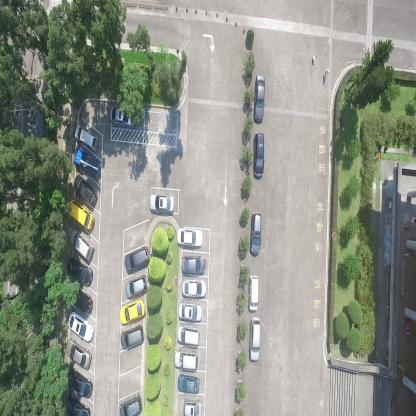car: (66, 311, 95, 342), (66, 366, 93, 399), (68, 198, 94, 232), (73, 148, 101, 179), (65, 338, 92, 370), (69, 228, 94, 262), (119, 296, 146, 326), (66, 256, 93, 286), (72, 174, 97, 206), (125, 242, 149, 272), (119, 321, 144, 349), (109, 105, 137, 130), (74, 123, 98, 152), (249, 209, 263, 258), (253, 74, 266, 124), (252, 132, 265, 180), (70, 285, 93, 312), (248, 316, 261, 362), (125, 273, 148, 299), (176, 226, 203, 248), (150, 191, 174, 215), (173, 349, 198, 372), (65, 394, 91, 416), (176, 324, 200, 347), (181, 254, 206, 276), (182, 278, 207, 300), (118, 393, 142, 415), (178, 301, 202, 322), (176, 373, 200, 394), (248, 274, 259, 311), (182, 396, 202, 415)
